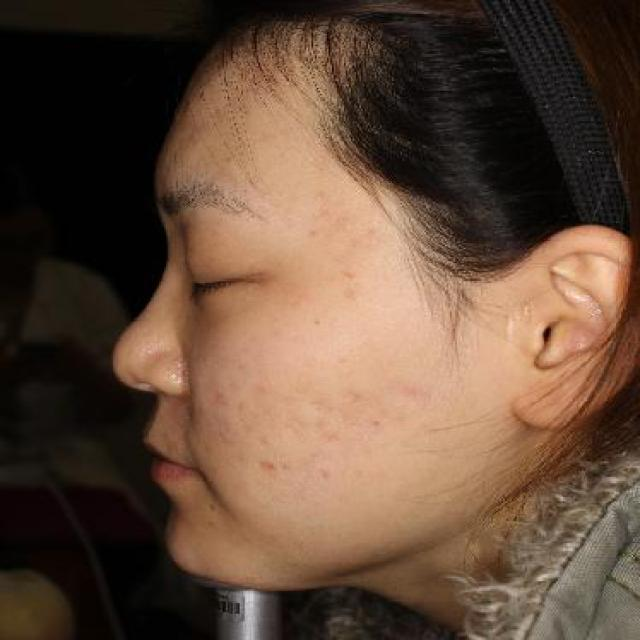dark spot: (311, 389, 339, 446), (260, 458, 296, 476), (310, 462, 337, 482), (368, 414, 387, 437)
